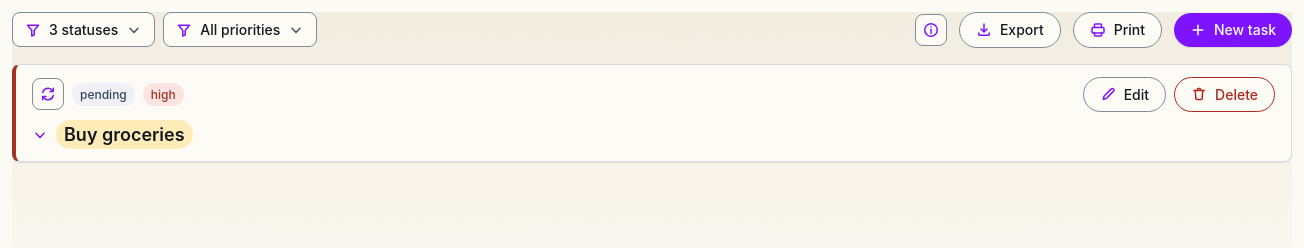
Scenario: TaskList › export › shows the server-provided message when the filter matches too many tasks to export
The width and height of the screenshot is (1304, 248).
Click the button "Export".
click(1010, 30)  # box [959, 12, 1061, 48]
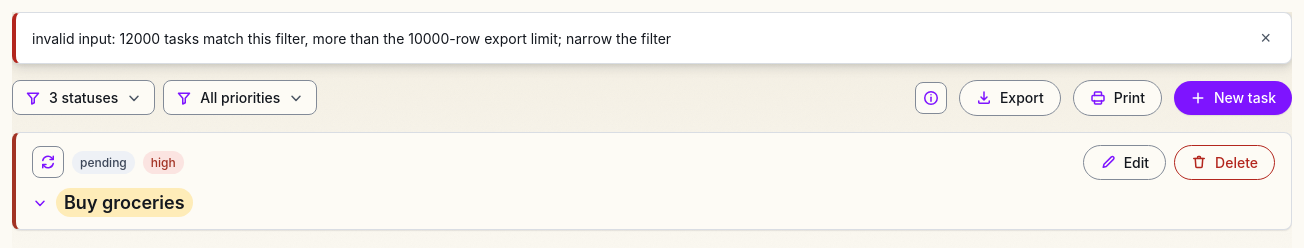
Check: the text "more than the 10000-row export limit" is shown, box [32, 30, 671, 46]
